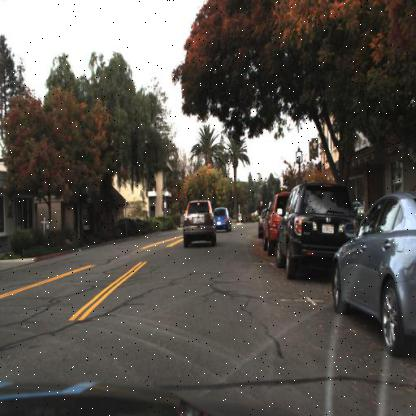car: (330, 189, 416, 359), (276, 181, 358, 284), (261, 190, 294, 258), (181, 198, 217, 246), (212, 205, 232, 231)
